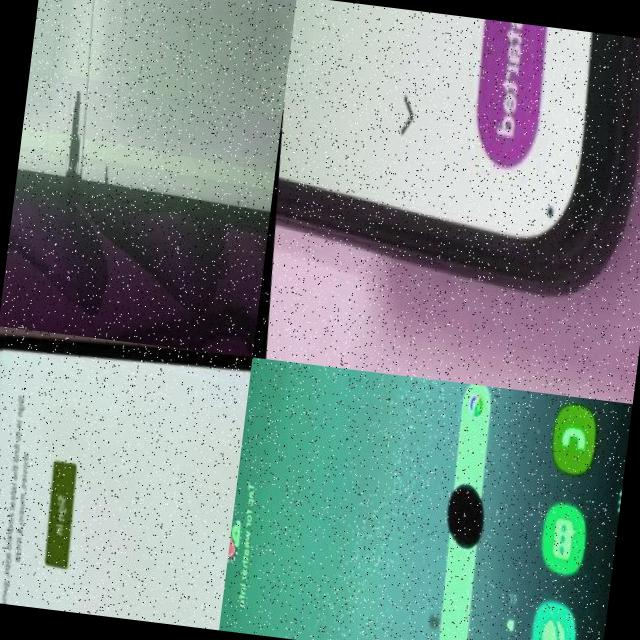dead pixel: (405, 419, 519, 582), (501, 144, 587, 266), (41, 60, 96, 184), (412, 594, 449, 636), (0, 324, 21, 377)
